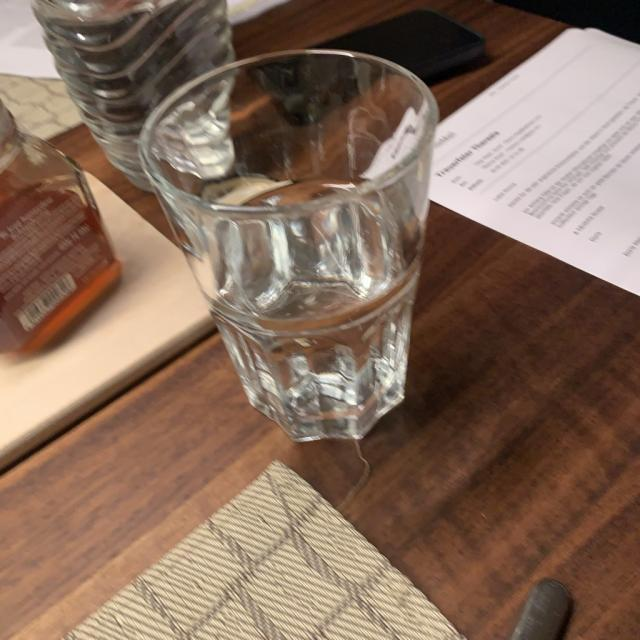water: (204, 189, 416, 432)
